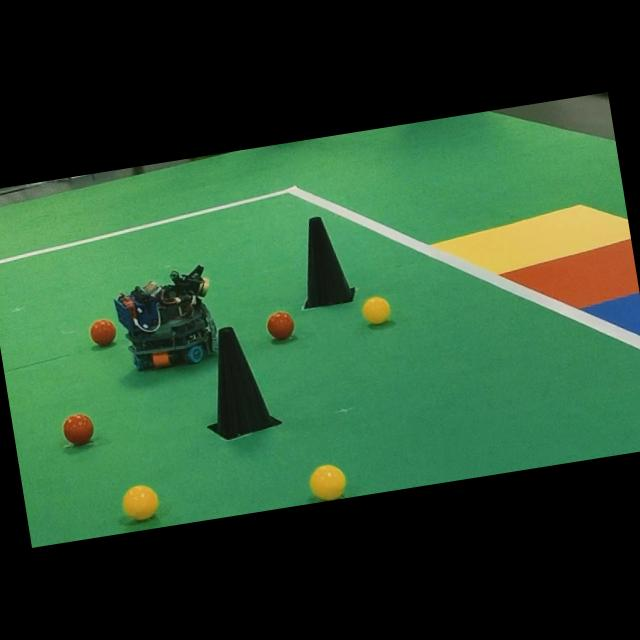ball: (123, 485, 158, 521), (311, 465, 346, 500), (63, 413, 94, 445), (362, 296, 391, 324), (267, 311, 295, 340), (90, 318, 116, 346)
goal: (433, 204, 631, 273), (503, 239, 639, 308), (583, 292, 640, 334)
